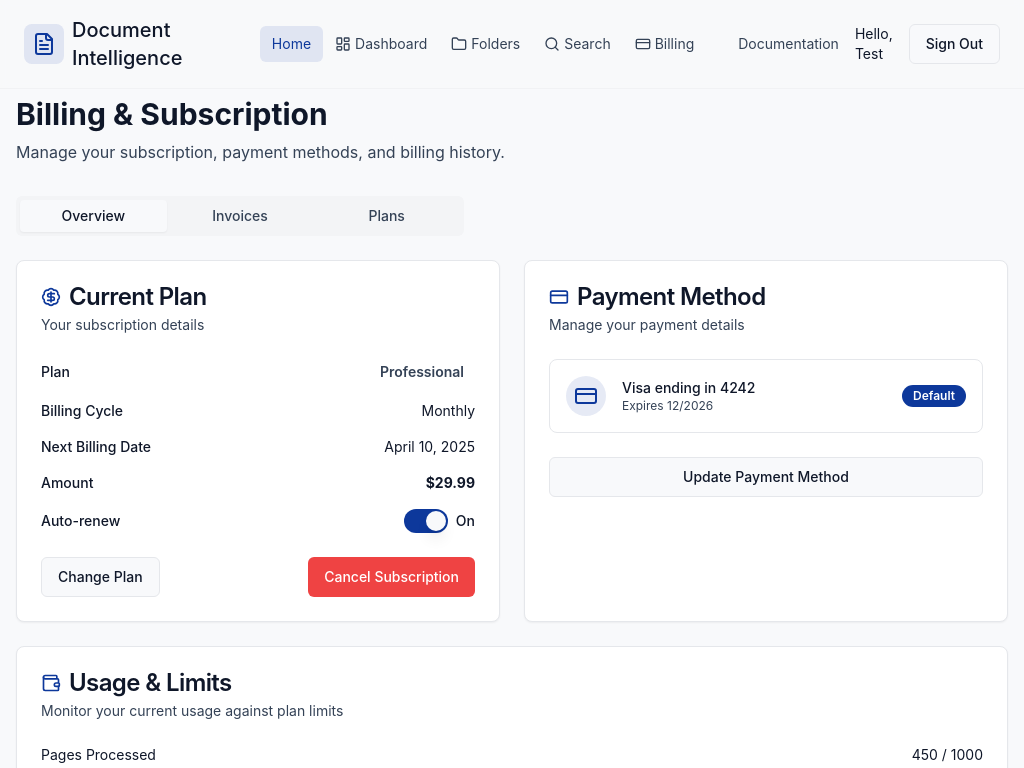
Billing Component › switches to invoices tab when clicked
Click on the Invoices tab
Click the tab "Invoices" at (240, 216), box x1=167 y1=200 x2=313 y2=232
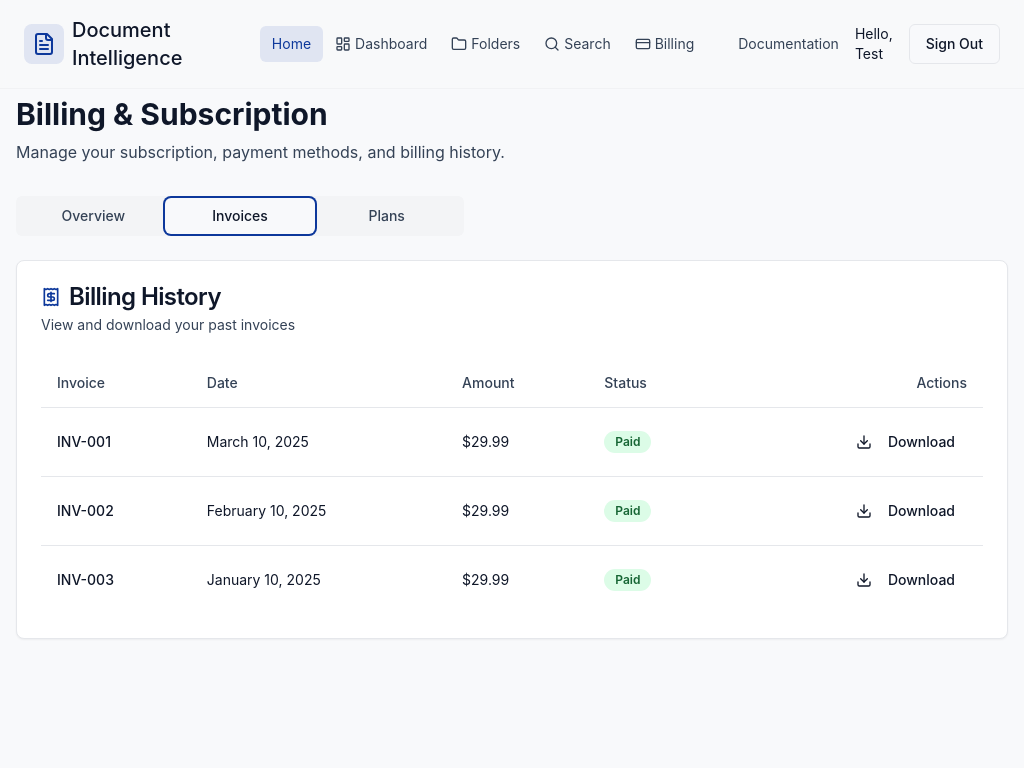
Expected: the heading "Billing History" is shown, x1=41 y1=282 x2=221 y2=311
Expected: the text "View and download your past invoices" is shown, x1=41 y1=316 x2=295 y2=333
Expected: the column heading "Invoice" is shown, x1=41 y1=359 x2=191 y2=407
